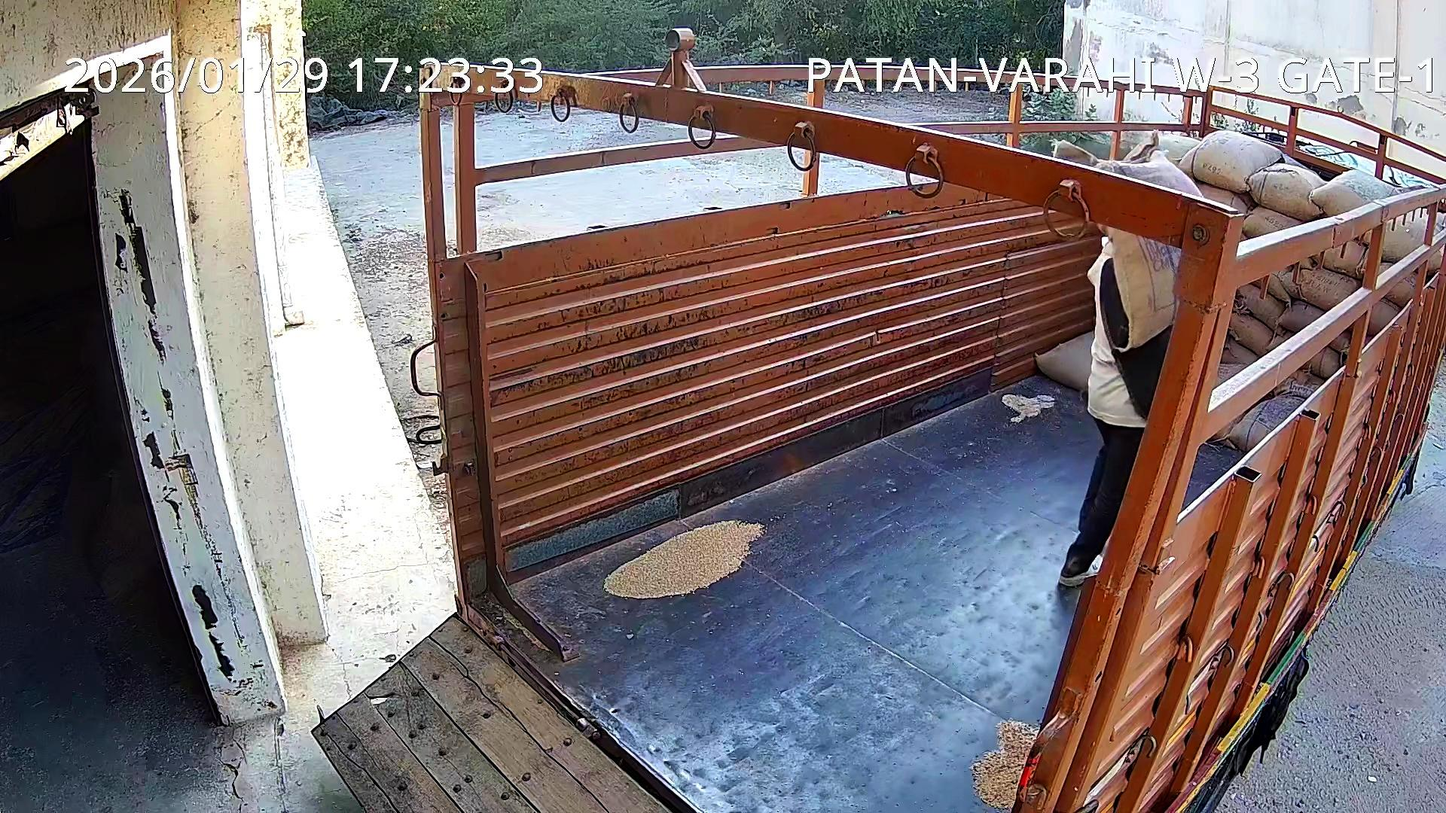Sack: (1098, 227, 1181, 415), (1084, 139, 1197, 193)
